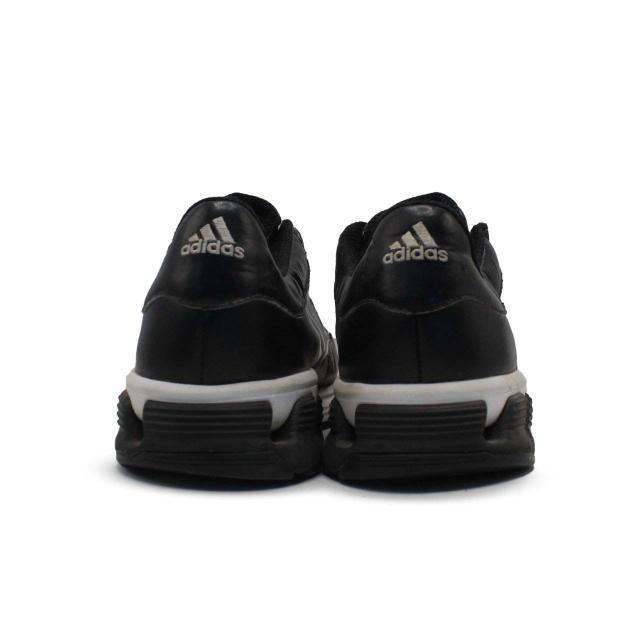heel: (334, 207, 526, 379), (136, 195, 316, 378)
midsole: (124, 372, 313, 490), (338, 382, 536, 488)
